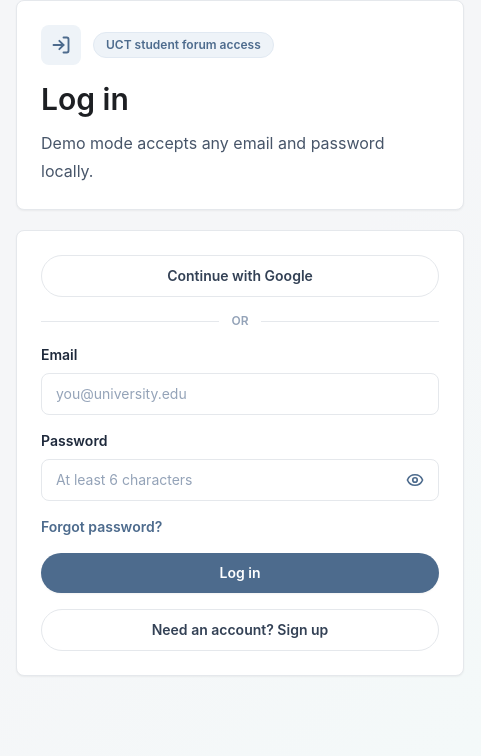
Test: AuthPage › shows a clearer login error when the email is not confirmed
This screenshot has width=481, height=756.
Type "student@uct.ac.za" into the field labelled "Email".
click(240, 394); type("student@uct.ac.za")  # box [41,373,439,415]
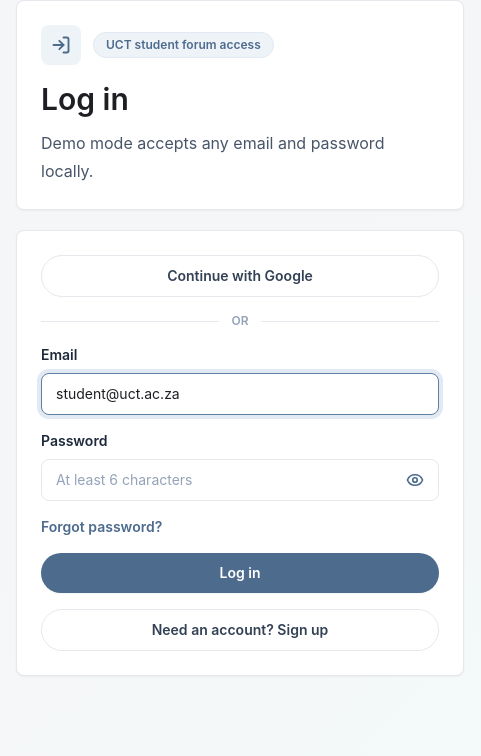
Type "password123" into the password field labelled "Password".
click(240, 480); type("password123")  # box [41,459,439,501]
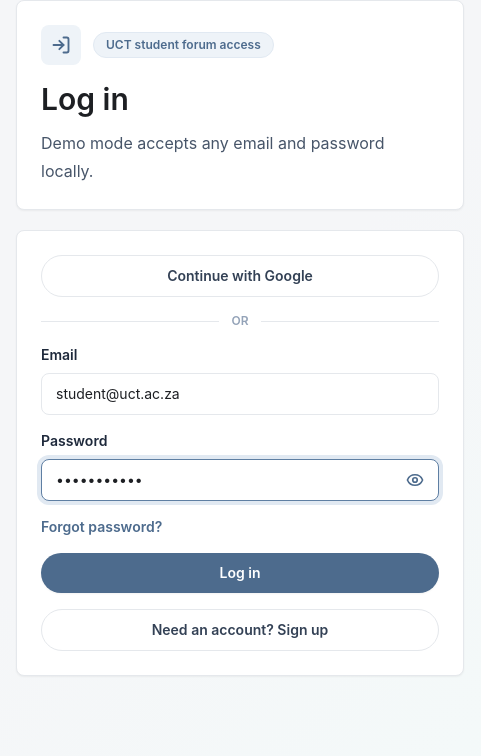
Click the button "Log in".
click(240, 573)  # box [41,553,439,593]
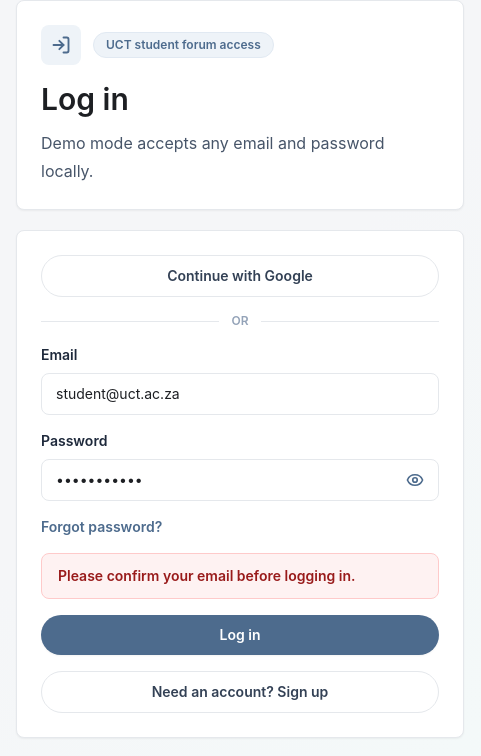
Result: the text "Please confirm your email before logging in." is shown at [41,553,439,599]
